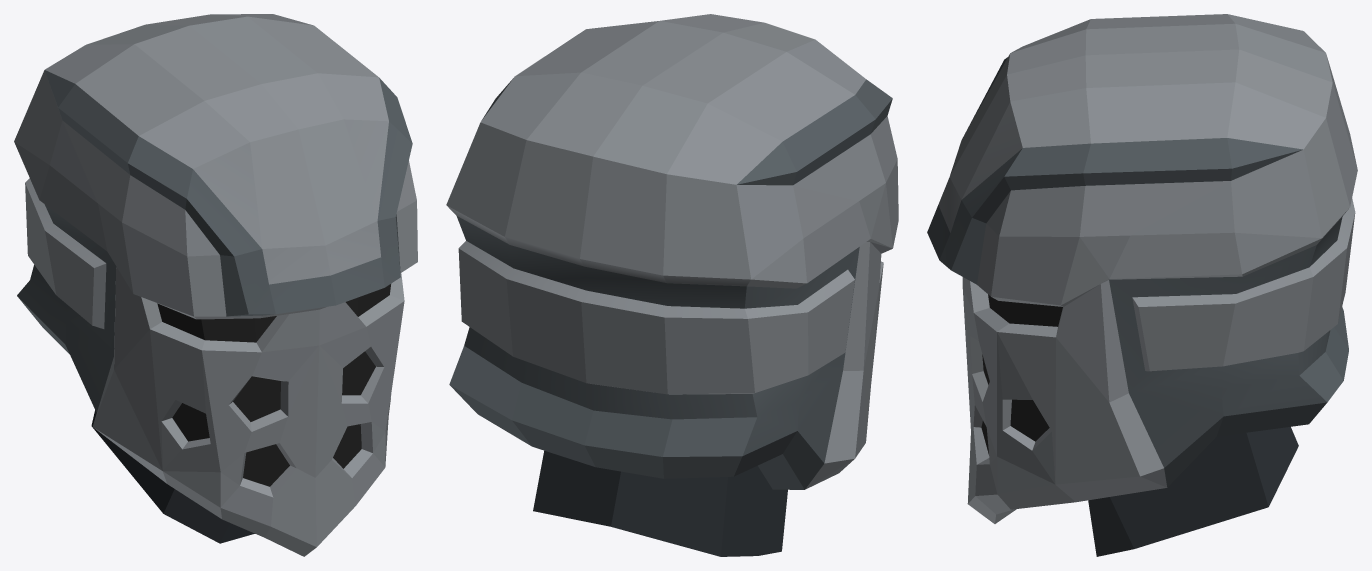
The model's file is Chr_Head_No_Elements_Male_09_Static.fbx.
3 renders of one model, left to right at view 1: azimuth 30°, elevation 25°; view 2: azimuth 150°, elevation 25°; view 3: azimuth 270°, elevation 25°, orthographic. The views are drawn at different scales.
Parts seen in each view (by area): view 1: Chr_Head_No_Elements_Male_09_Static; view 2: Chr_Head_No_Elements_Male_09_Static; view 3: Chr_Head_No_Elements_Male_09_Static.
Part boxes in pixels (left/top/right/bottom): Chr_Head_No_Elements_Male_09_Static: left=14, top=14, right=417, bottom=556; Chr_Head_No_Elements_Male_09_Static: left=446, top=14, right=898, bottom=556; Chr_Head_No_Elements_Male_09_Static: left=927, top=14, right=1357, bottom=556.
Size of the model in its own units: 0.246 by 0.3656 by 0.2911.
